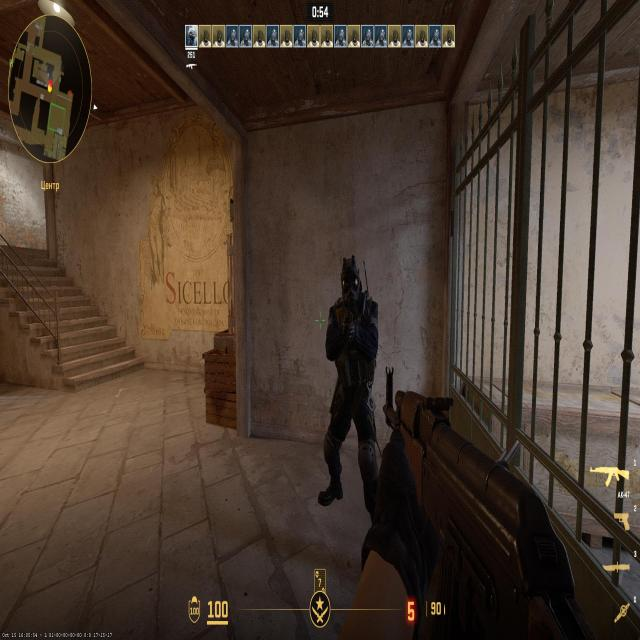CT: (340, 268, 372, 448)
CT_heat: (342, 271, 357, 317)
